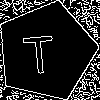T: (21, 26, 56, 75)
